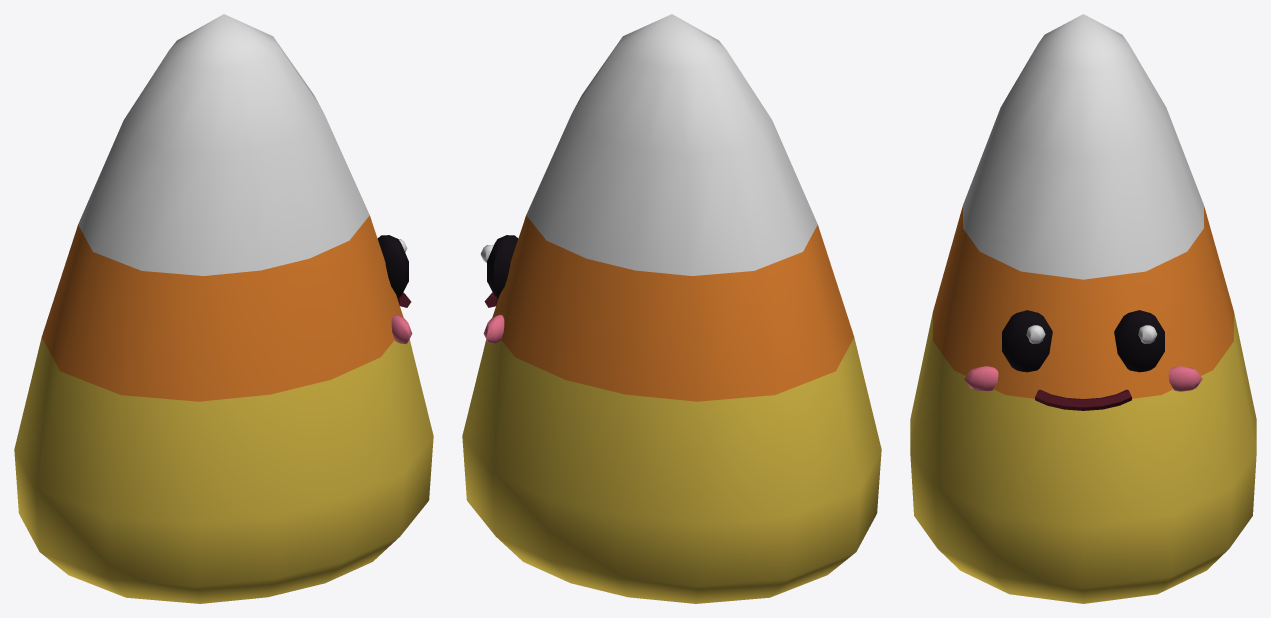
File: candy_corn.glb
3 renders of one model, left to right at view 1: azimuth 30°, elevation 25°; view 2: azimuth 150°, elevation 25°; view 3: azimuth 270°, elevation 25°, orthographic.
Parts seen in each view (by area): view 1: candy_corn; view 2: candy_corn; view 3: candy_corn.
Part boxes in pixels (<box>): candy_corn: <box>14,14,433,603</box>; candy_corn: <box>462,14,881,603</box>; candy_corn: <box>910,14,1256,603</box>.
Bounding box in the file's own units: 0.46 × 0.61 × 0.3717.
